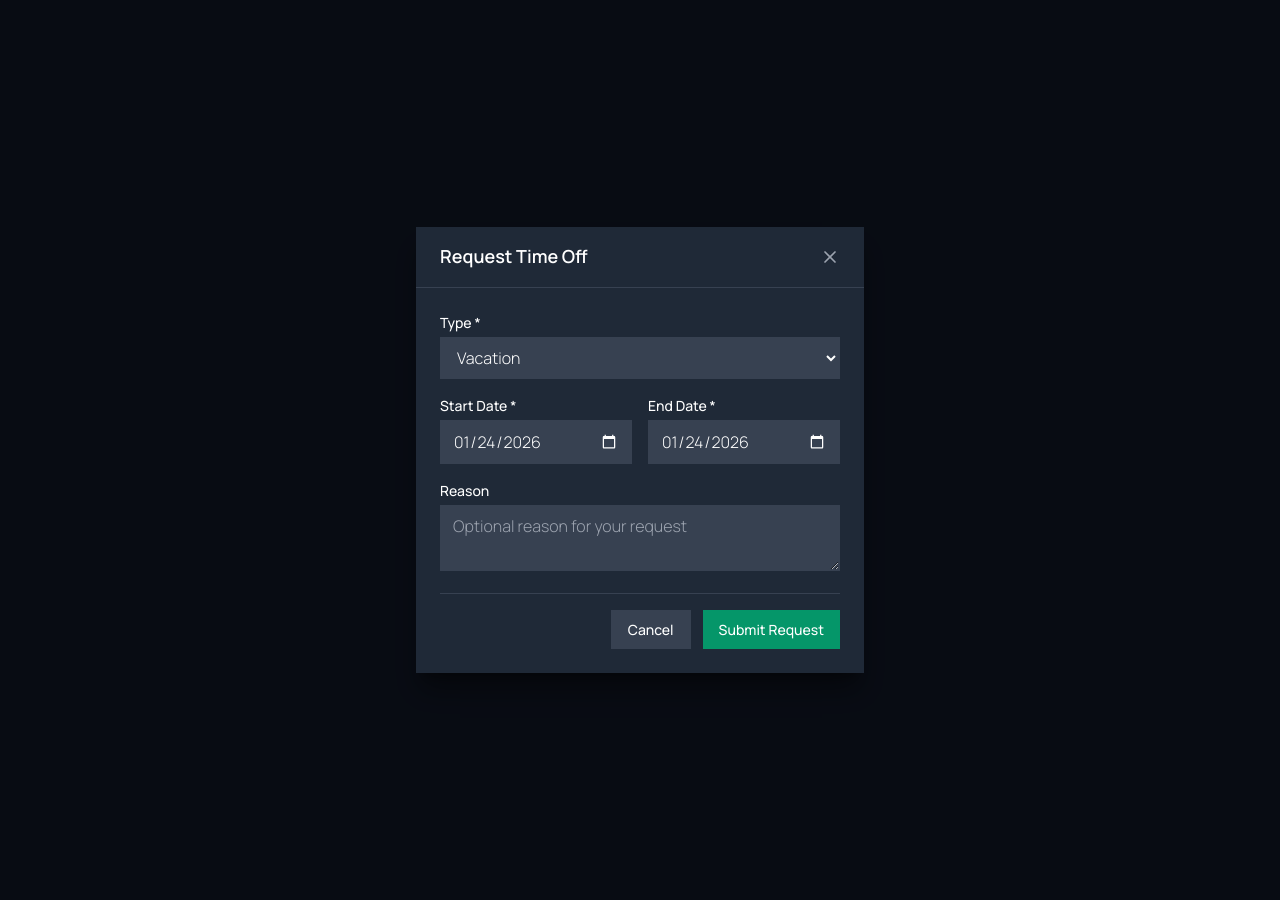
RequestTimeOffModal › form validation › shows error when start date is empty
Clear the date field labelled "Start Date *" at (536, 442), box [440, 420, 632, 464]
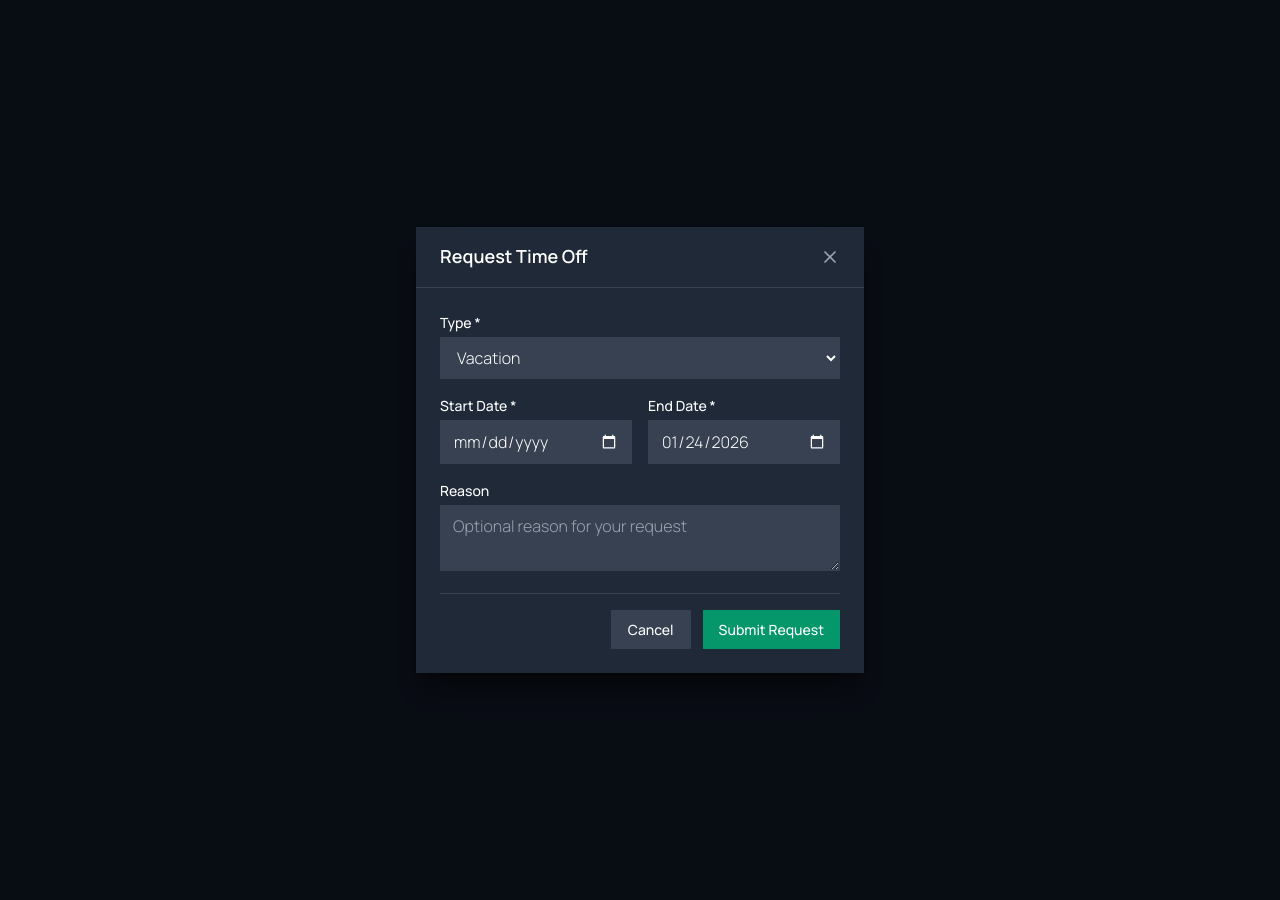
Click the button "Submit Request" at (771, 630), box [703, 610, 840, 649]
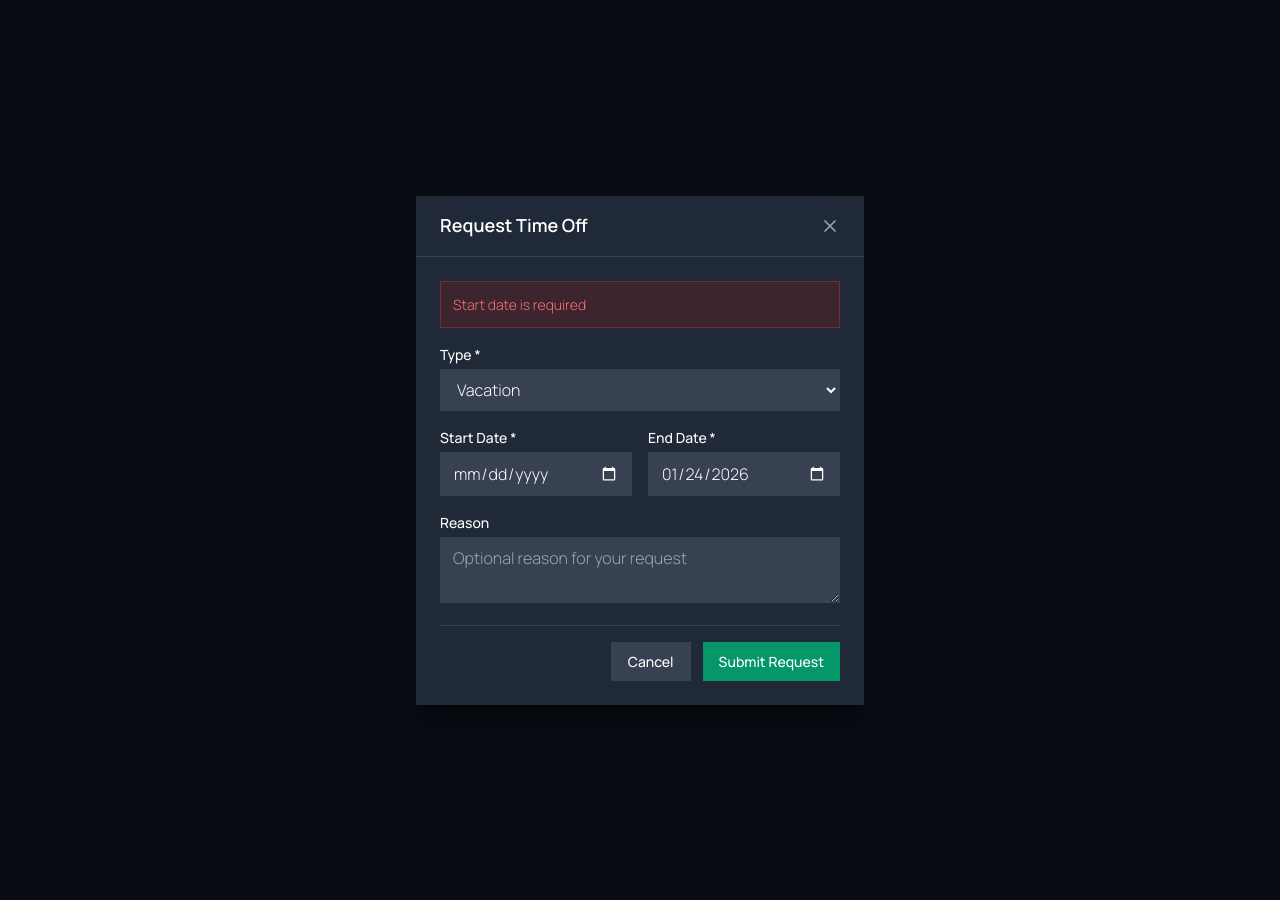
Expected: the text "Start date is required" is shown, [440, 280, 840, 328]
